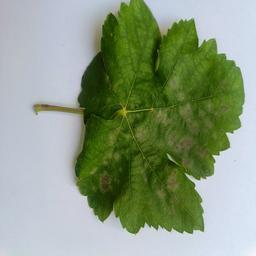Powdery-Mildew: (132, 107, 167, 148), (100, 130, 125, 162), (173, 134, 200, 162), (95, 165, 118, 194), (182, 103, 204, 133), (160, 169, 183, 194), (164, 75, 185, 100)
